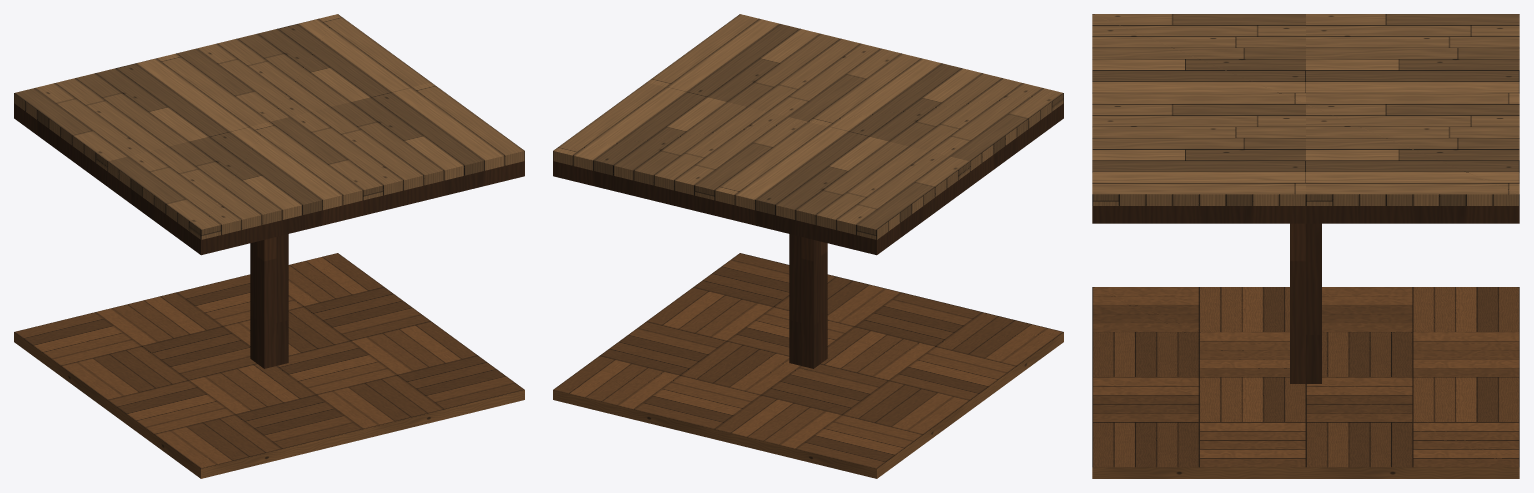
Rendered from Room_Cabin_Column_NoLight.glb.
3 renders of one model, left to right at view 1: azimuth 30°, elevation 25°; view 2: azimuth 150°, elevation 25°; view 3: azimuth 270°, elevation 25°, orthographic. The views are drawn at different scales.
Visible parts, largest first — view 1: Room_Cabin_Column_NoLight_Ceiling, Room_Cabin_Column_NoLight; view 2: Room_Cabin_Column_NoLight_Ceiling, Room_Cabin_Column_NoLight; view 3: Room_Cabin_Column_NoLight_Ceiling, Room_Cabin_Column_NoLight.
Part boxes in pixels (box(x1,y1,x2,y2)): Room_Cabin_Column_NoLight_Ceiling: box(14, 14, 524, 255); Room_Cabin_Column_NoLight: box(14, 234, 524, 478); Room_Cabin_Column_NoLight_Ceiling: box(553, 14, 1063, 255); Room_Cabin_Column_NoLight: box(553, 234, 1063, 478); Room_Cabin_Column_NoLight_Ceiling: box(1092, 14, 1519, 223); Room_Cabin_Column_NoLight: box(1092, 223, 1519, 478).
Size of the model in its own units: 4 by 2.94 by 4.
5 materials, 5 textured.
